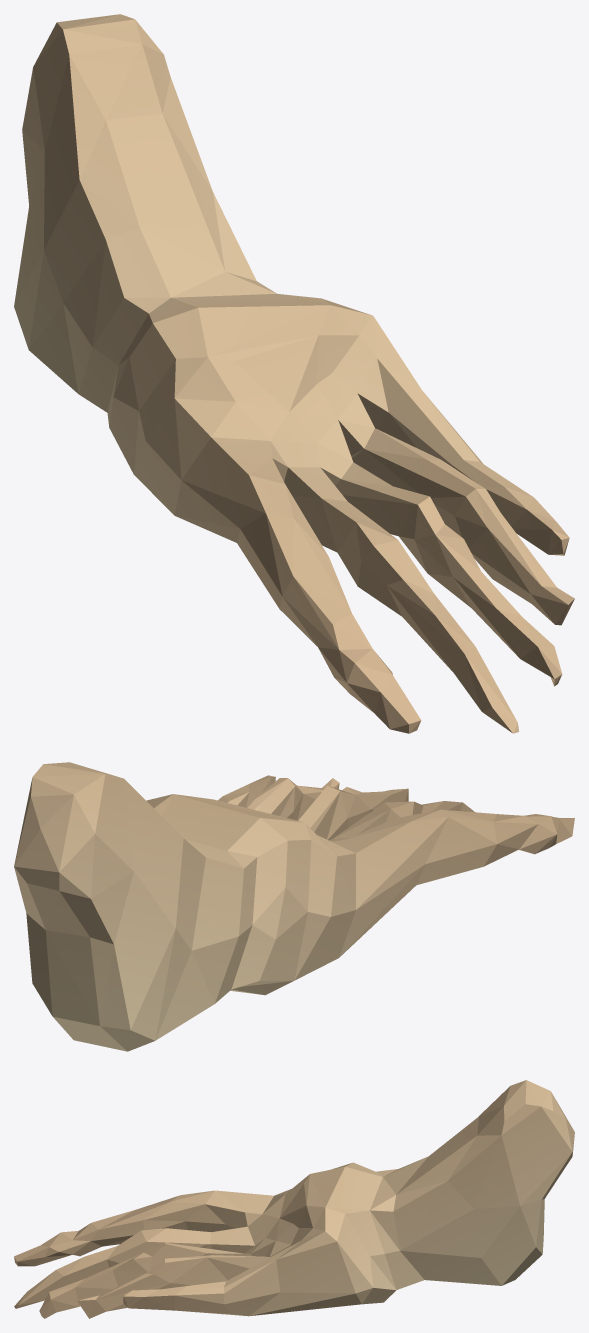
Rendered from feetbonesright.fbx.
3 views of the same model, one above another, from view 1: azimuth 30°, elevation 25°; view 2: azimuth 150°, elevation 25°; view 3: azimuth 270°, elevation 25° (orthographic). The views are drawn at different scales.
Visible parts, largest first — view 1: FeetBonesRight; view 2: FeetBonesRight; view 3: FeetBonesRight.
Part boxes in pixels (<box>): FeetBonesRight: <box>14,14,574,733</box>; FeetBonesRight: <box>14,762,574,1051</box>; FeetBonesRight: <box>14,1080,574,1318</box>.
Size of the model in its own units: 8.87 by 11.48 by 26.04.
